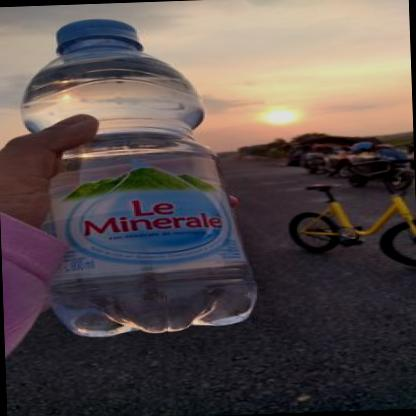plastic_bottles: (13, 12, 264, 342)
